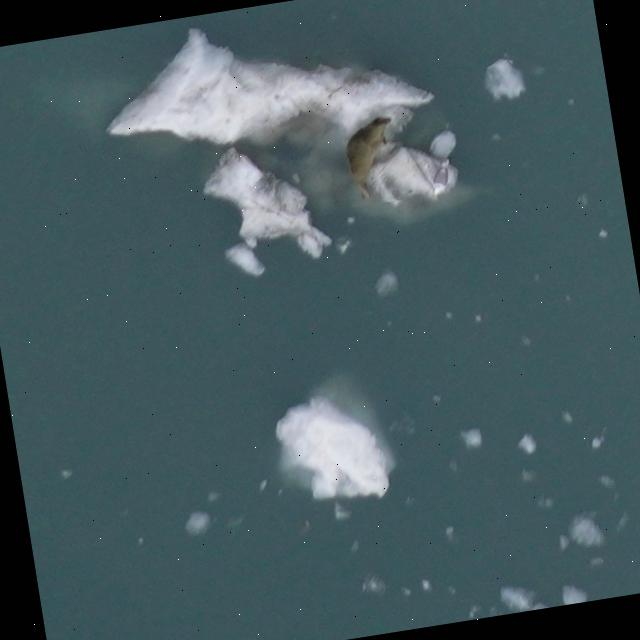seal: (338, 111, 407, 208)
